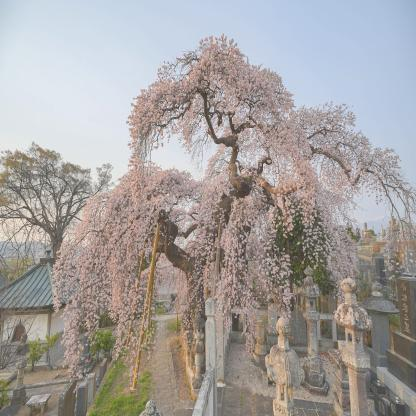ShidareZakura: (50, 31, 415, 388)
